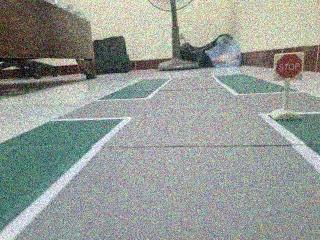stop: (272, 45, 315, 87)
